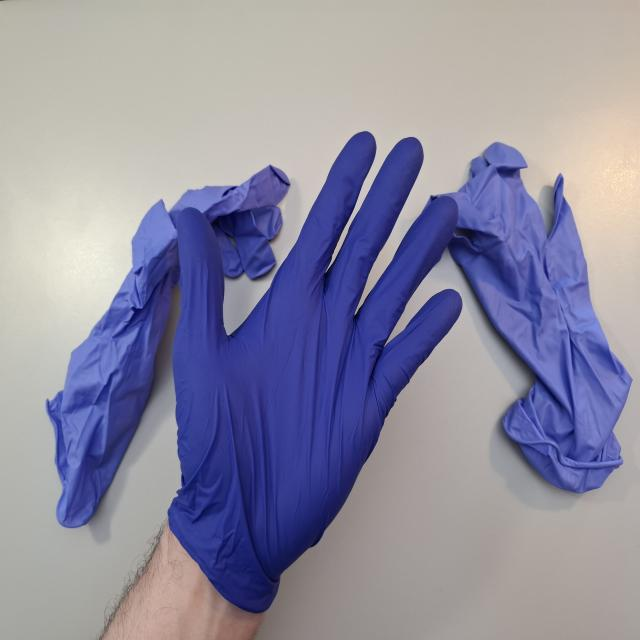glove_on: (166, 129, 464, 613)
